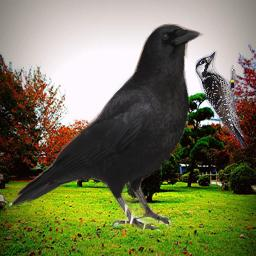Crow: (9, 20, 204, 233)
Woodpecker: (195, 51, 246, 149)
